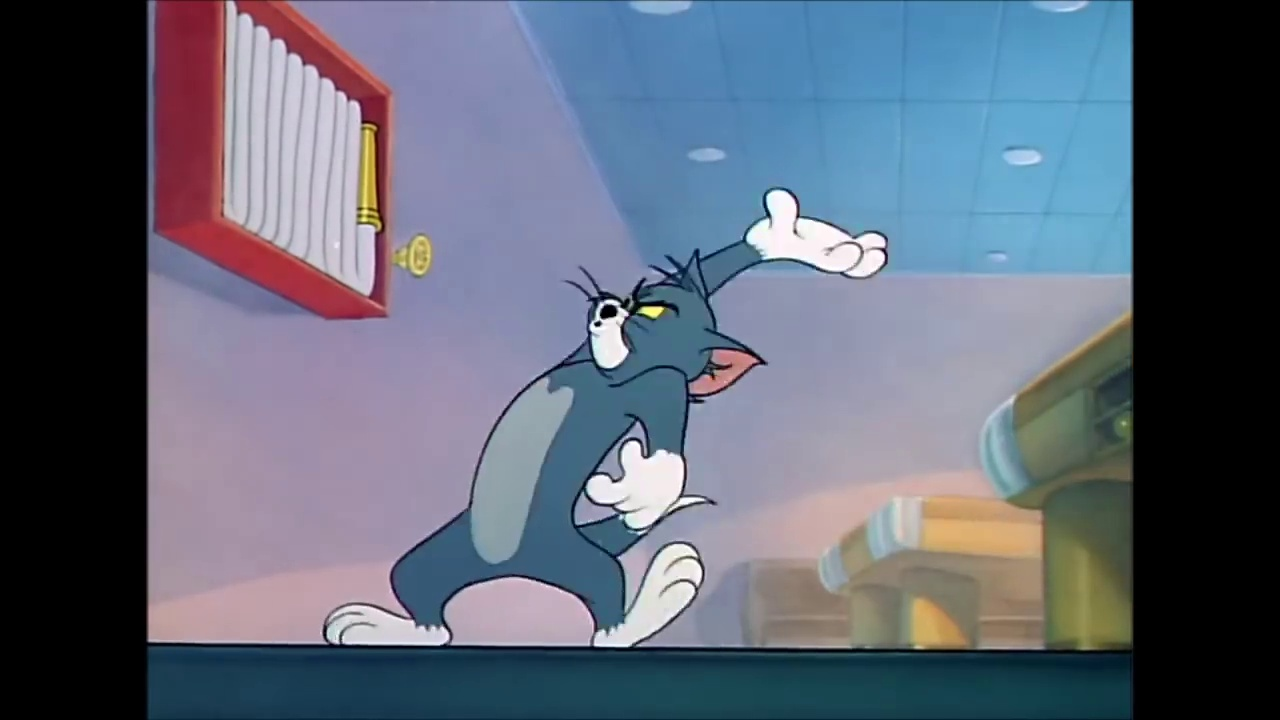angry: (591, 278, 682, 378)
